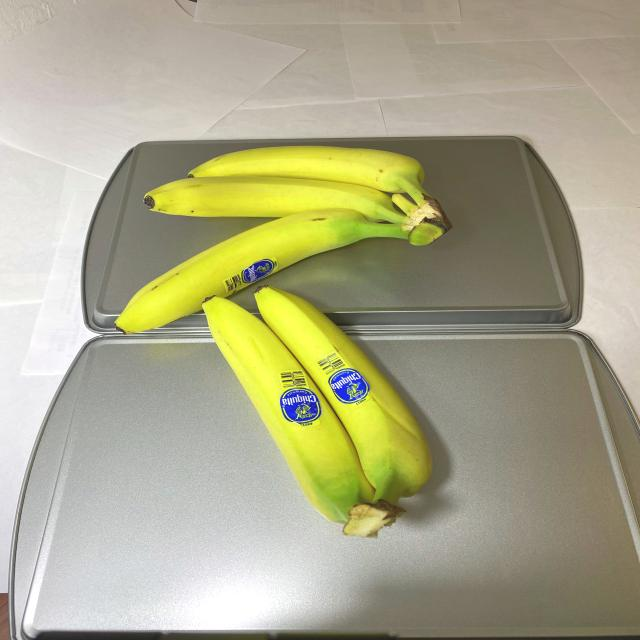banana: (109, 145, 458, 335), (196, 284, 440, 541)
